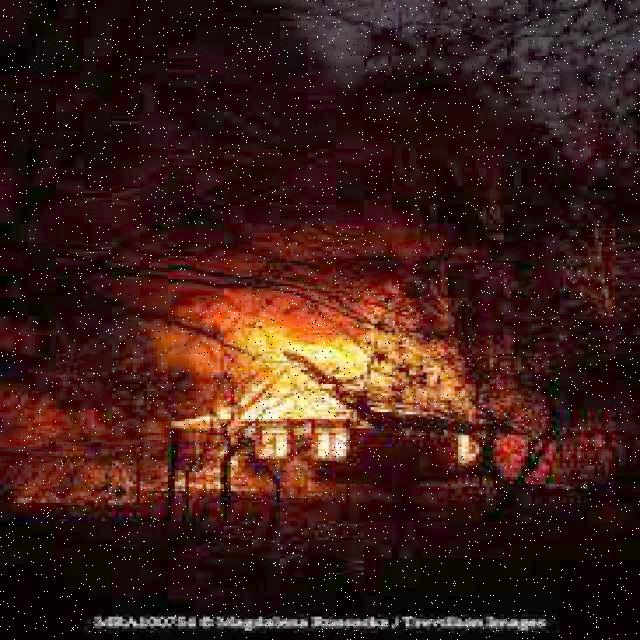fire: (228, 294, 400, 444)
